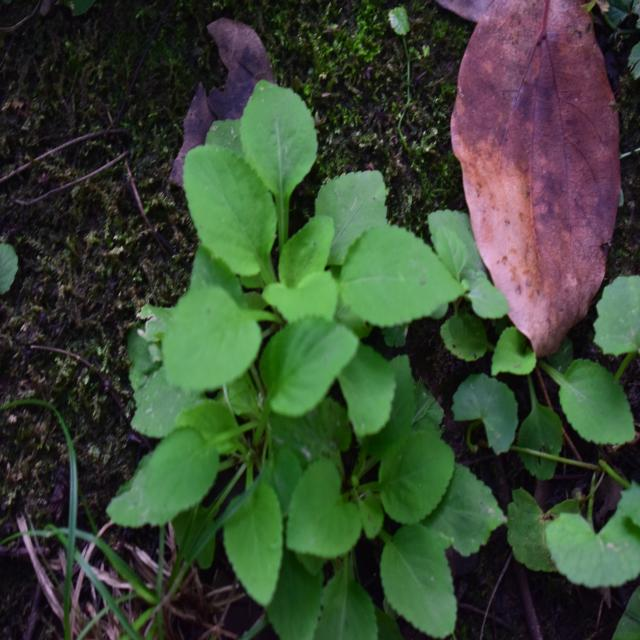Viola: (168, 121, 435, 457)
